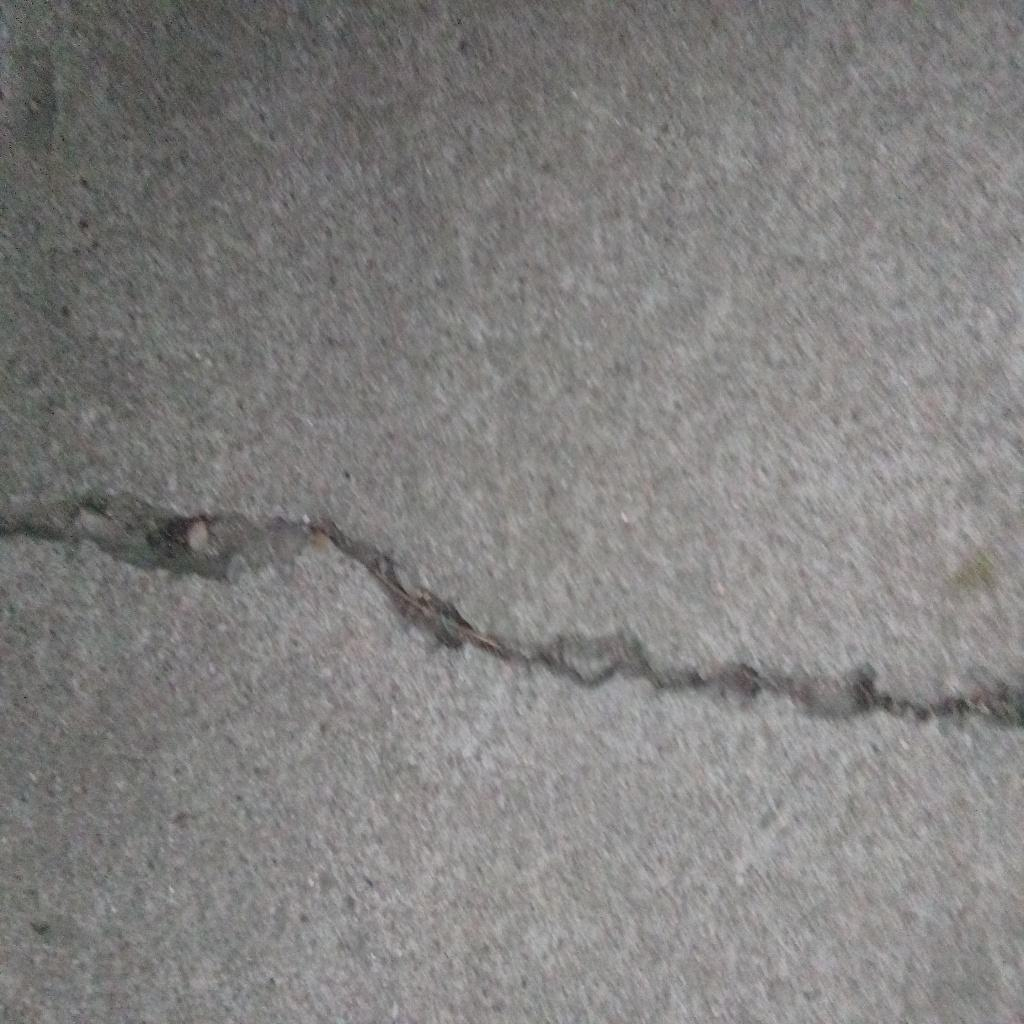Crack: (1, 484, 1024, 731)
